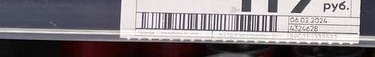1d: (142, 11, 279, 33)
